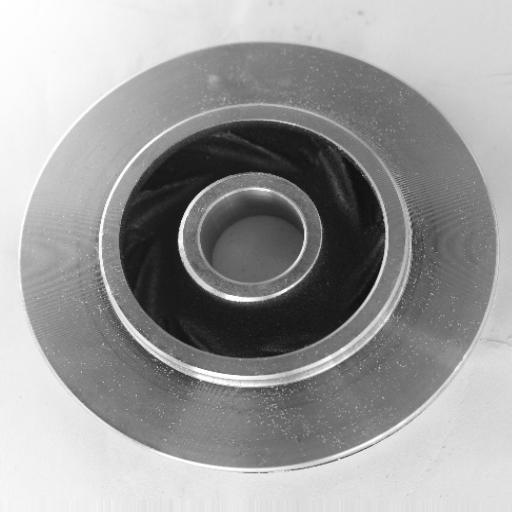polished_casting: (18, 40, 501, 474)
